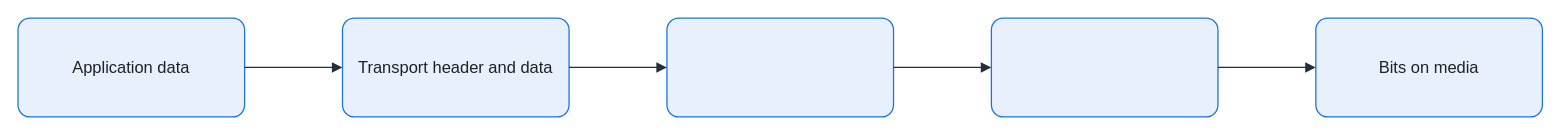
This 1561x136 diagram has some shape labels left out. The shapes that lost their labels are listed below. From the top down, each one's centre as x and y in pixels, then its label:
At [780,67]: "IP header and segment".
At [1104,67]: "Ethernet frame".
